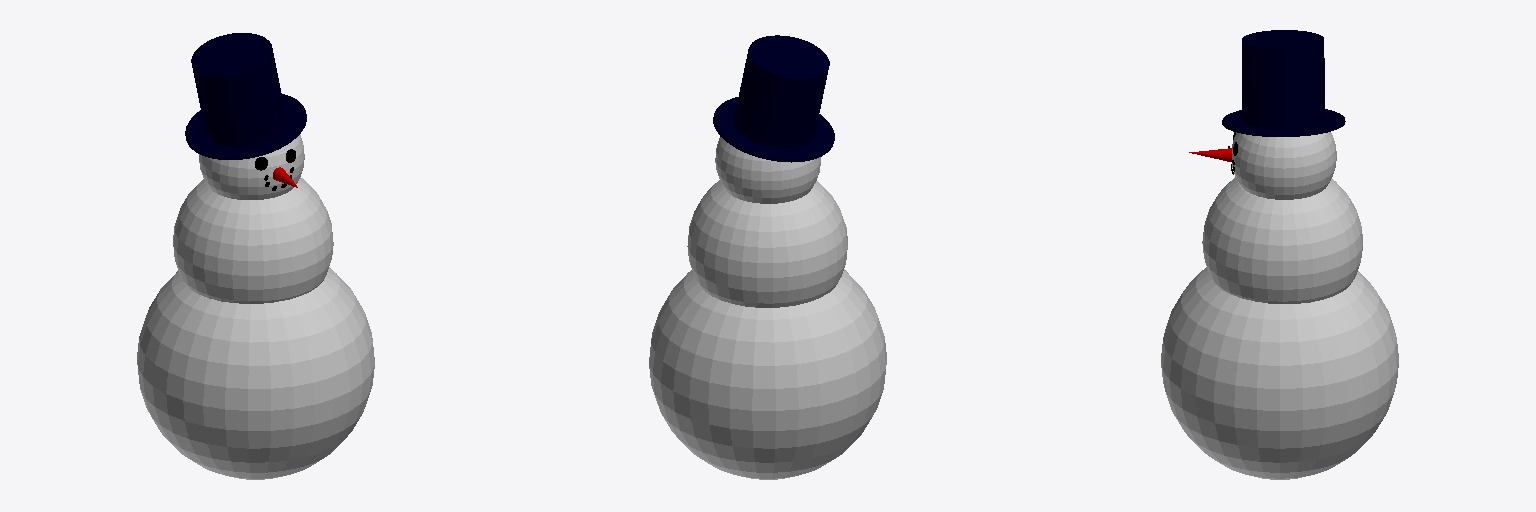
The model's file is snowman.obj.
3 renders of one model, left to right at view 1: azimuth 30°, elevation 25°; view 2: azimuth 150°, elevation 25°; view 3: azimuth 270°, elevation 25°, orthographic.
Parts seen in each view (by area): view 1: Сфера.008_Сфера.013; view 2: Сфера.008_Сфера.013; view 3: Сфера.008_Сфера.013.
Boxes of the visible parts, x1,y1,x2,y2 form: Сфера.008_Сфера.013: [137, 33, 374, 479]; Сфера.008_Сфера.013: [649, 35, 886, 479]; Сфера.008_Сфера.013: [1161, 30, 1398, 479].
Size of the model in its own units: 2.32 by 4.57 by 2.32.